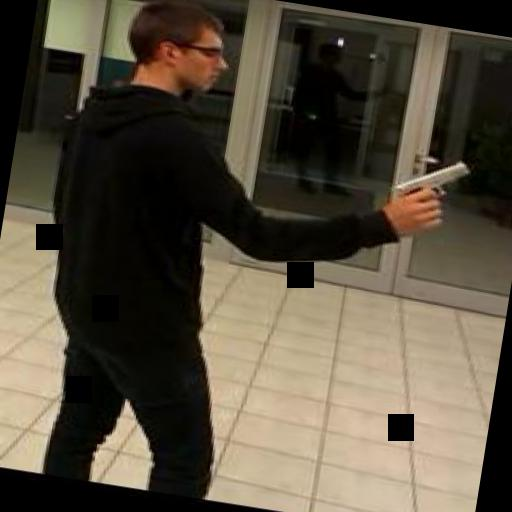Handgun: (380, 148, 470, 230)
